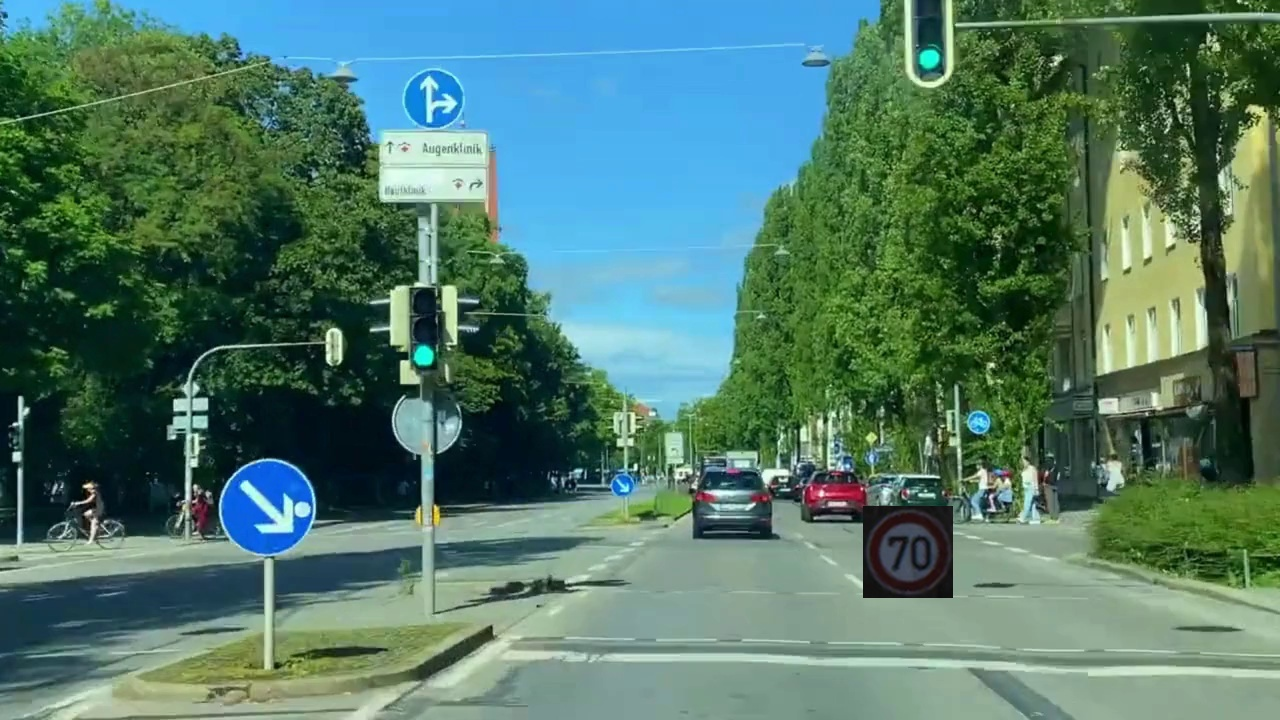Speed 70: (863, 506, 953, 598)
